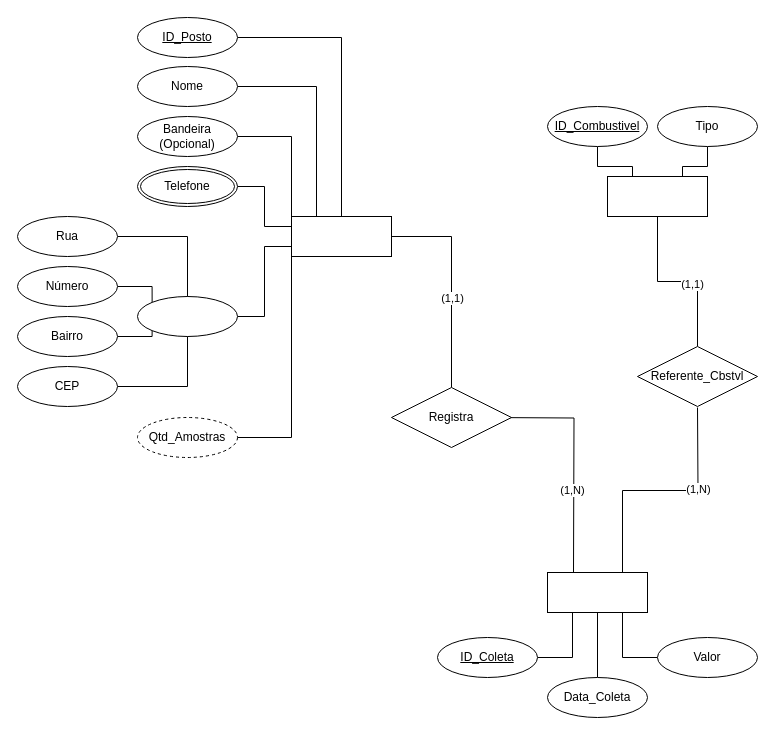
This 775x735 diagram has some shape labels left out. The box of each missing label's shape, as (x1, y1, x2, y2) in pixels:
Coleta: (546, 572, 648, 612)
Combustível: (606, 176, 708, 216)
Endereço: (136, 296, 238, 336)
Posto: (290, 216, 392, 256)
